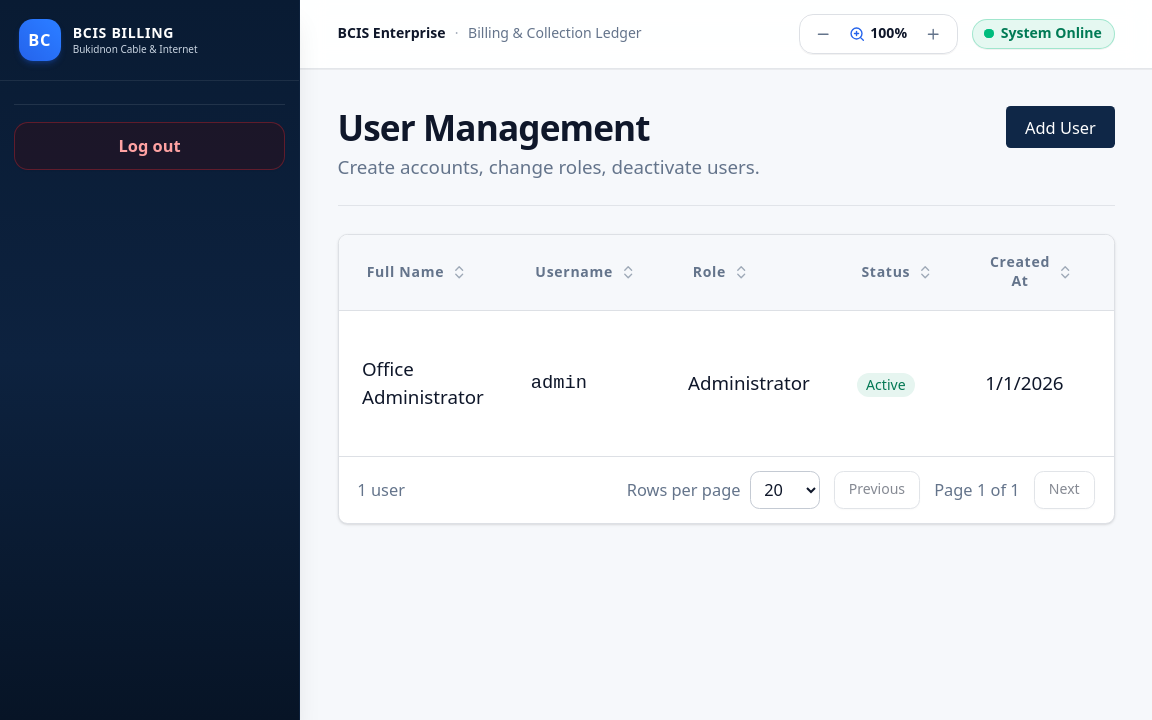
Test: UserManagementPage form › reports every empty field beside itself and focuses the first
Step 1. Click the button "Add User" → point(1060, 127), box [1006,106,1115,148]
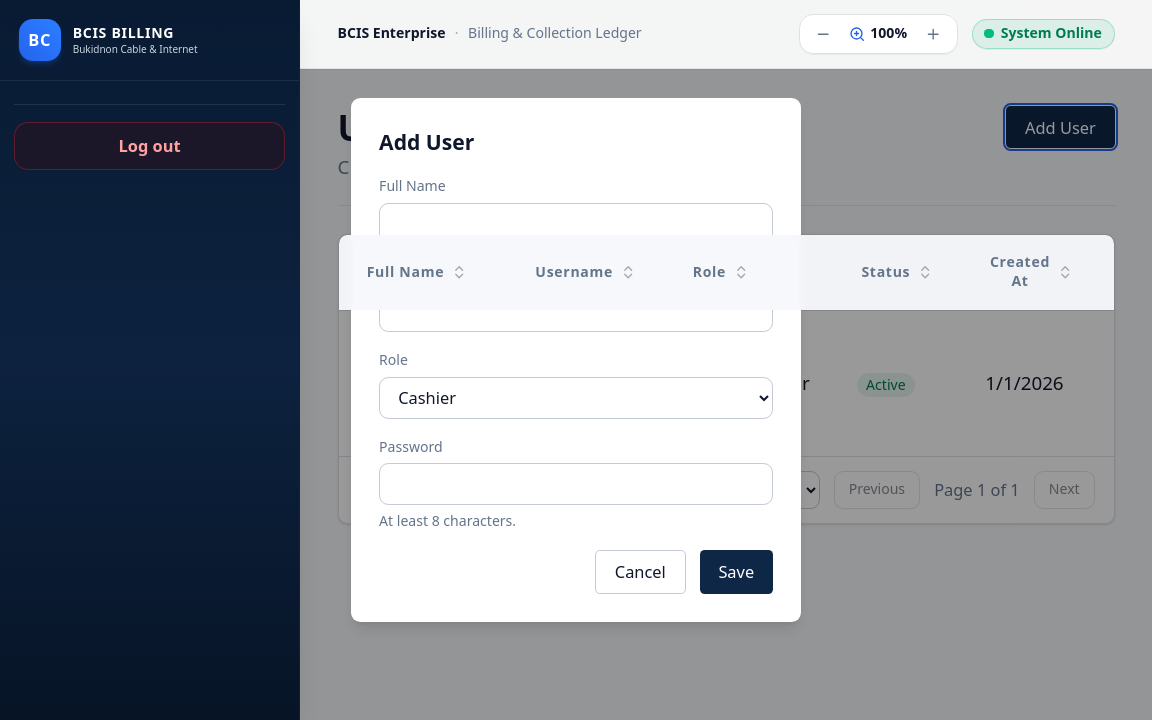
expect the heading "Add User" is shown: met, box [379,127,474,156]
Step 2. Click the button "Save" → point(736, 572), box [700,550,773,594]
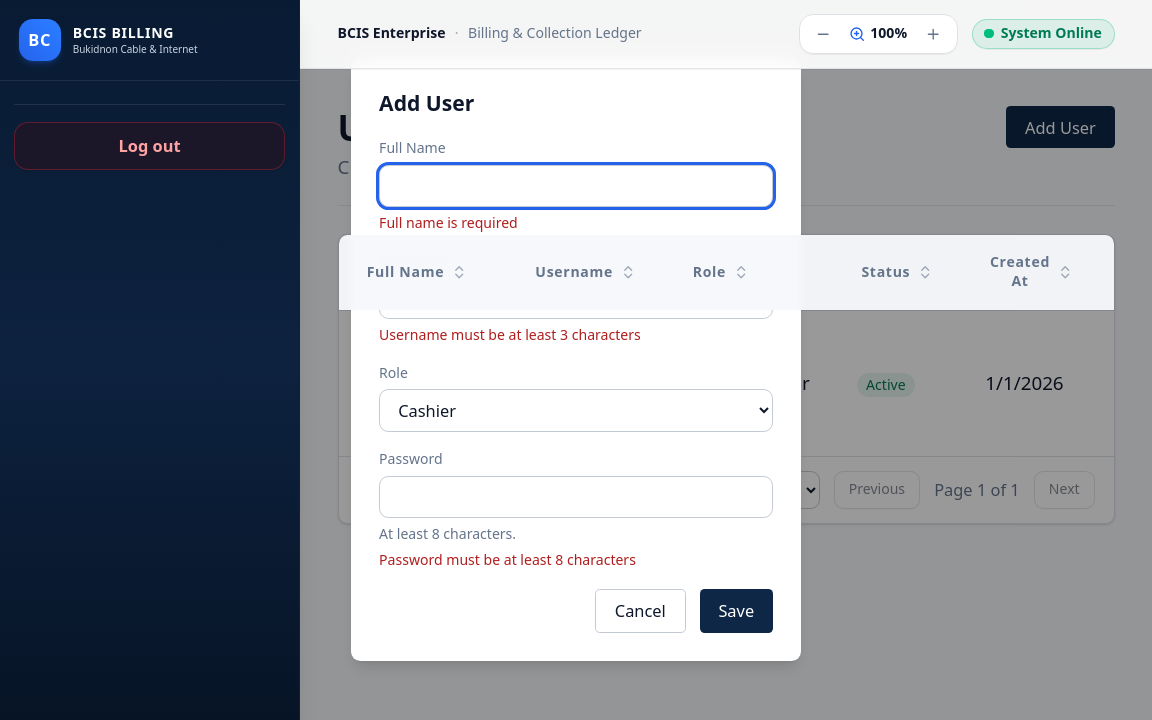
expect the message "Full name is required" is shown: met, box [379,213,518,232]
expect the message "Username must be at least 3 characters" is shown: met, box [379,325,641,344]
